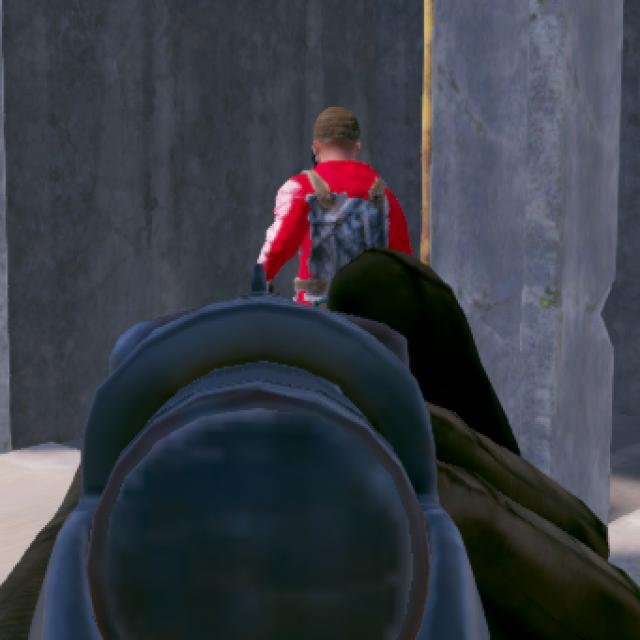Player: (257, 105, 413, 249)
